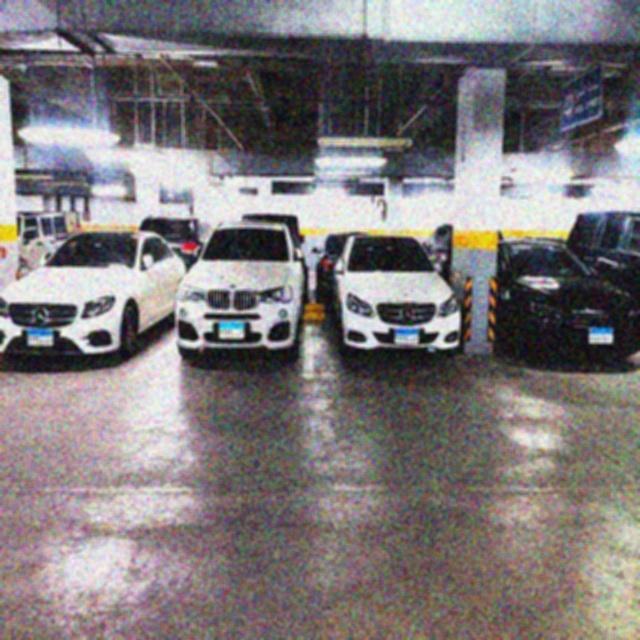License Plate: (394, 327, 422, 349), (218, 321, 247, 342), (26, 328, 55, 347), (588, 326, 615, 346)
